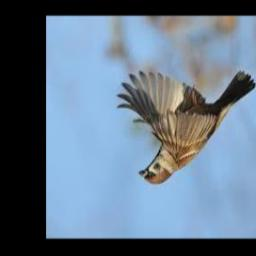Sparrow: (117, 70, 255, 185)
